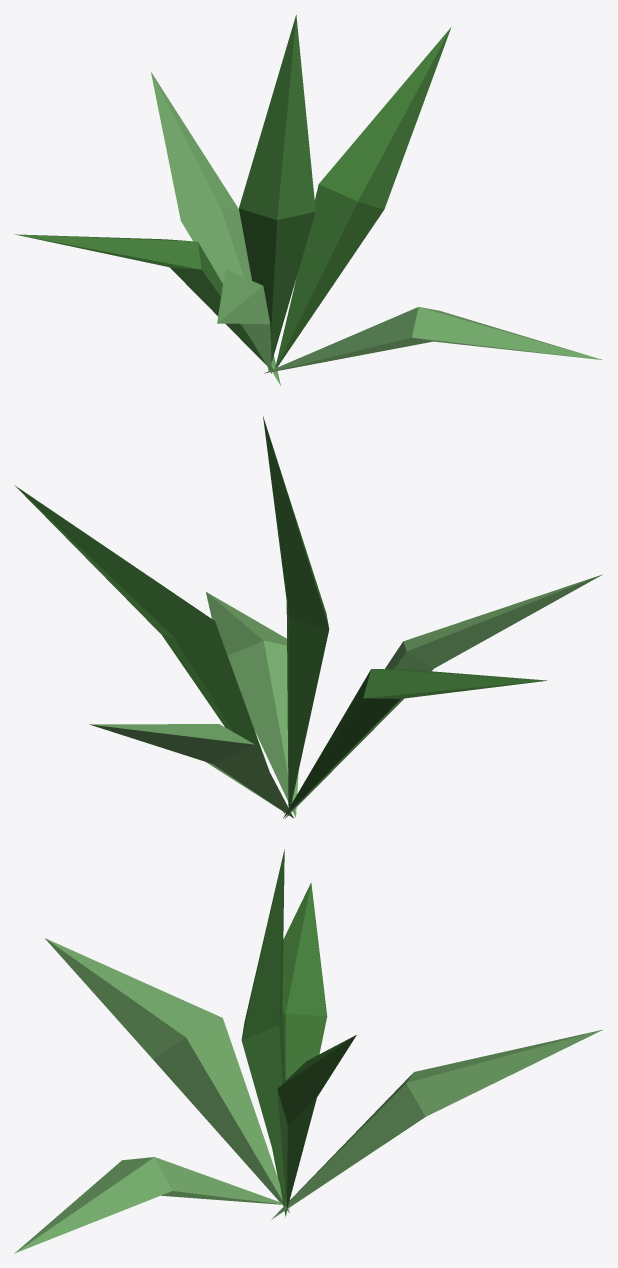
The model's file is grass.obj.
The picture shows the model from 3 angles, top to bottom: view 1: azimuth 30°, elevation 25°; view 2: azimuth 150°, elevation 25°; view 3: azimuth 270°, elevation 25°; orthographic projection. The views are drawn at different scales.
Parts seen in each view (by area): view 1: Cylinder.004; view 2: Cylinder.004; view 3: Cylinder.004.
Part boxes in pixels (bbox=[...]): Cylinder.004: bbox=[14, 15, 603, 385]; Cylinder.004: bbox=[14, 416, 602, 819]; Cylinder.004: bbox=[14, 849, 603, 1253].
Bounding box in the file's own units: 0.6883 × 0.5192 × 0.7245.
Materials: 1 (1 with a texture image).
